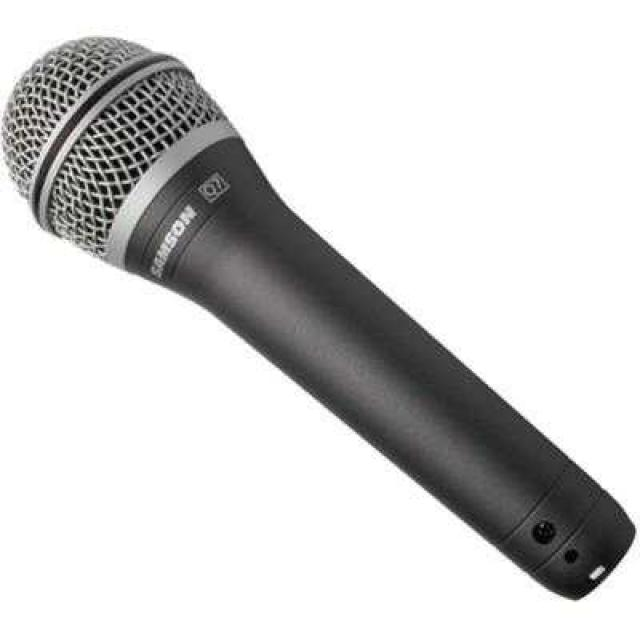microphone: (4, 32, 622, 601)
